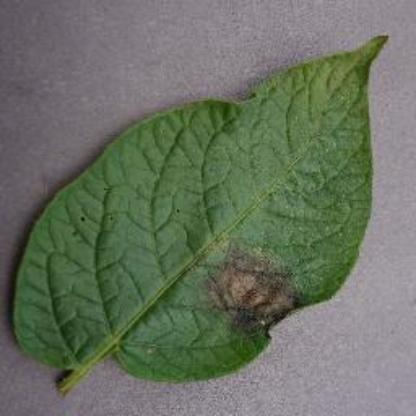Late-Blight: (13, 19, 411, 353)
